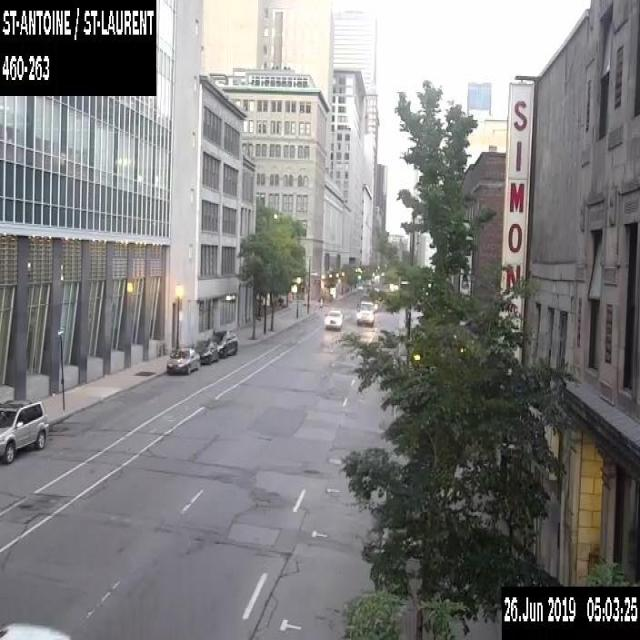vehicle: (0, 397, 49, 464), (0, 621, 72, 639), (165, 346, 200, 375), (210, 329, 237, 357), (356, 293, 378, 324), (193, 339, 218, 363), (323, 308, 342, 329)
